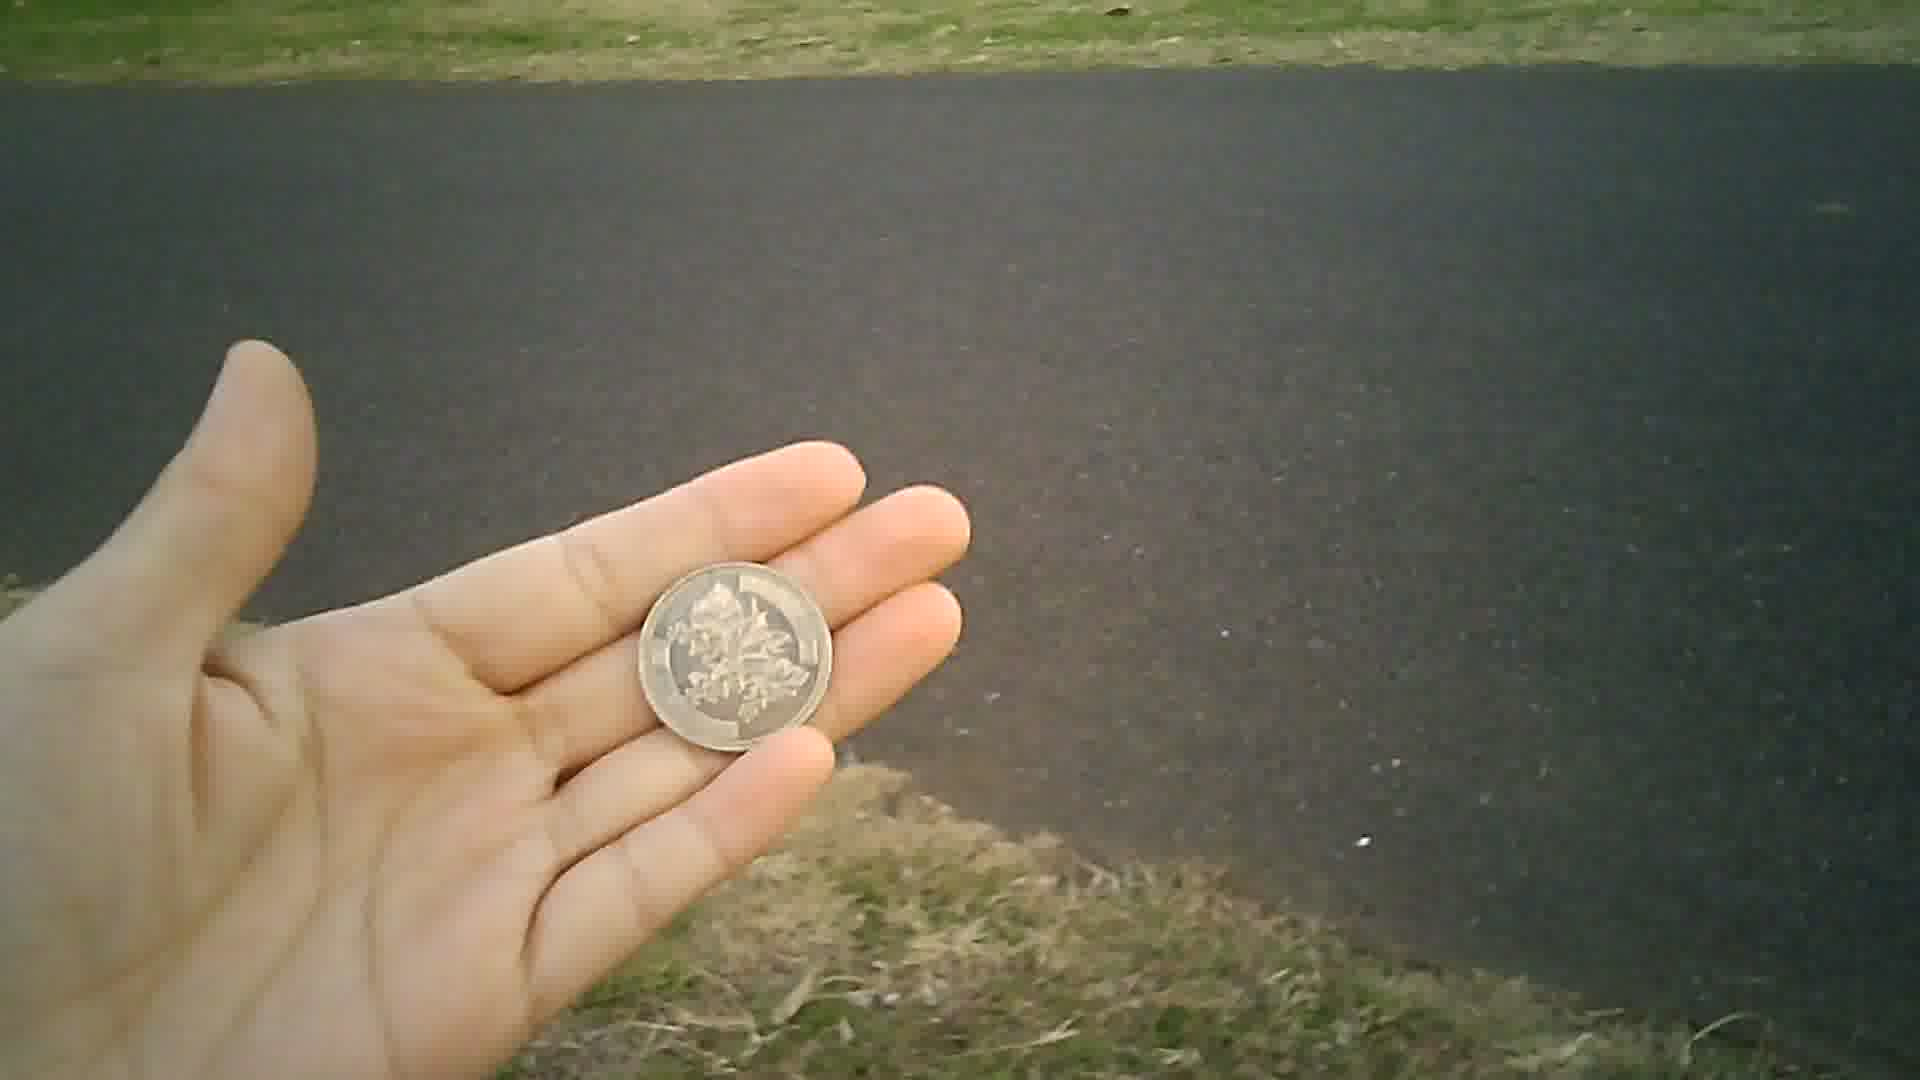500 Yen: (642, 554, 837, 756)
